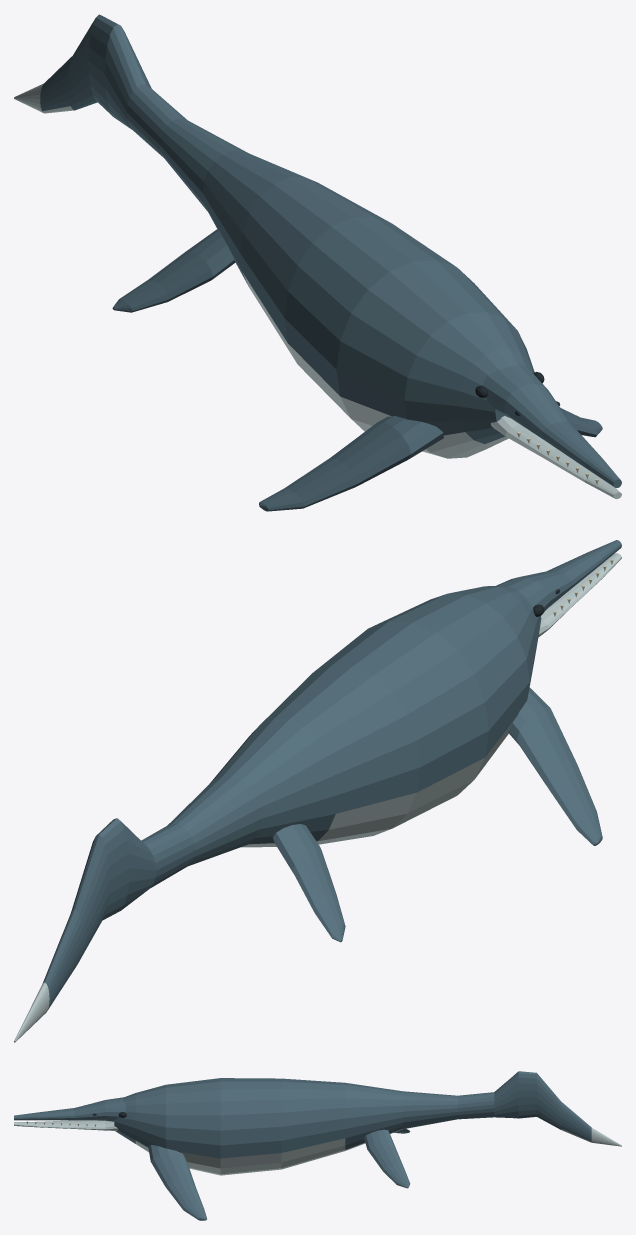
3 renders of one model, top to bottom at view 1: azimuth 30°, elevation 25°; view 2: azimuth 150°, elevation 25°; view 3: azimuth 270°, elevation 25°, orthographic. The views are drawn at different scales.
Visible parts, largest first — view 1: surface_bluegray_back, surface_lighter_belly; view 2: surface_bluegray_back, surface_lighter_belly; view 3: surface_bluegray_back, surface_lighter_belly.
Part boxes in pixels (x1=…): surface_bluegray_back: x1=14, y1=14, x2=621, y2=511; surface_lighter_belly: x1=491, y1=416, x2=621, y2=499; surface_bluegray_back: x1=14, y1=540, x2=621, y2=1042; surface_lighter_belly: x1=538, y1=553, x2=621, y2=637; surface_bluegray_back: x1=14, y1=1071, x2=621, y2=1220; surface_lighter_belly: x1=14, y1=1120, x2=118, y2=1130.
Bounding box in the file's own units: 0.324 × 0.197 × 1.
